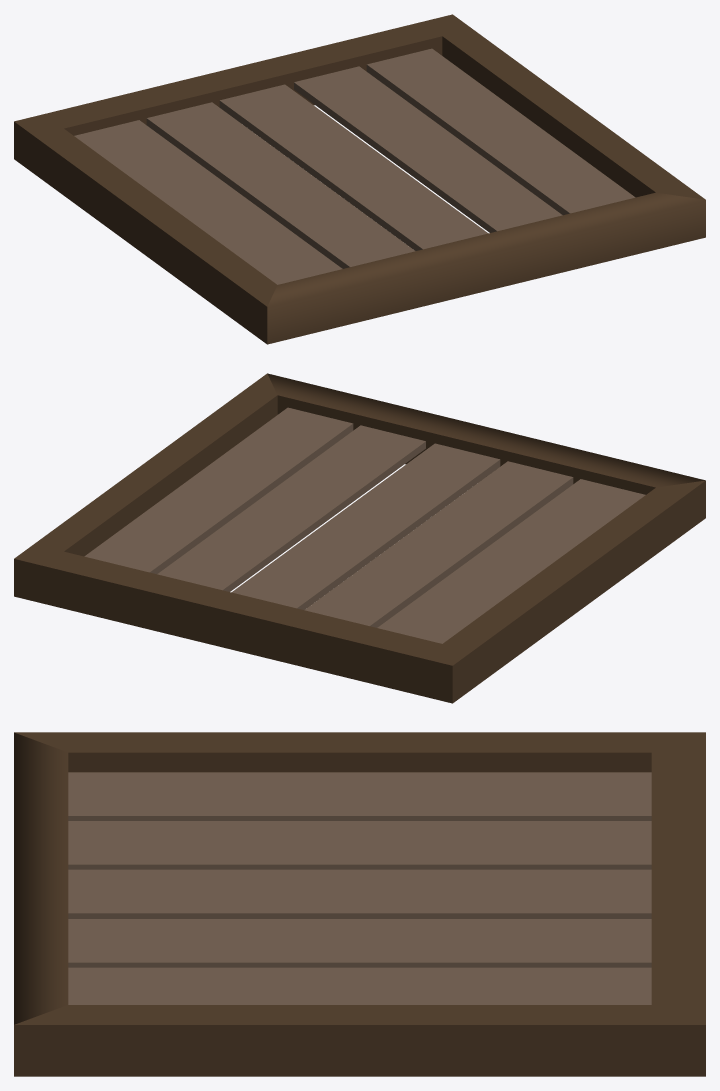
Rendered from WoodenPlatformExport.fbx.
The picture shows the model from 3 angles, top to bottom: view 1: azimuth 30°, elevation 25°; view 2: azimuth 150°, elevation 25°; view 3: azimuth 270°, elevation 25°; orthographic projection. The views are drawn at different scales.
Parts seen in each view (by area): view 1: pCube2; view 2: pCube2; view 3: pCube2.
Boxes of the visible parts, <box> form: pCube2: <box>14,14,705,344</box>; pCube2: <box>14,373,705,703</box>; pCube2: <box>14,732,705,1076</box>.
Size of the model in its own units: 3 by 0.2468 by 3.
